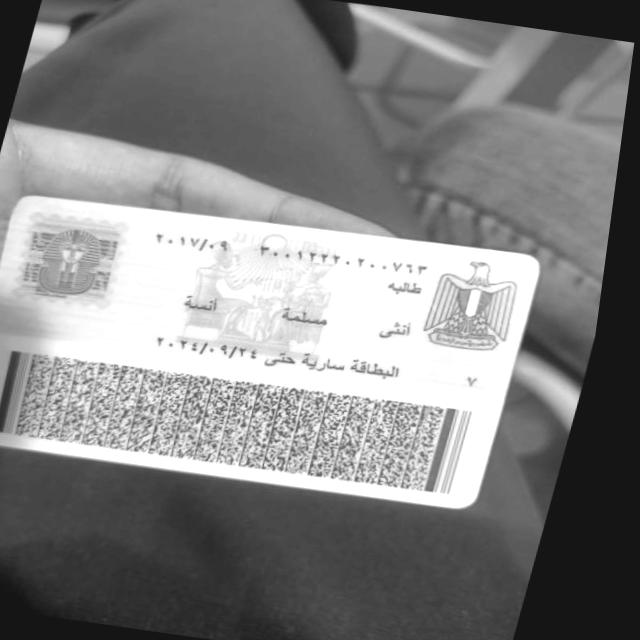id_card: (0, 198, 539, 506)
